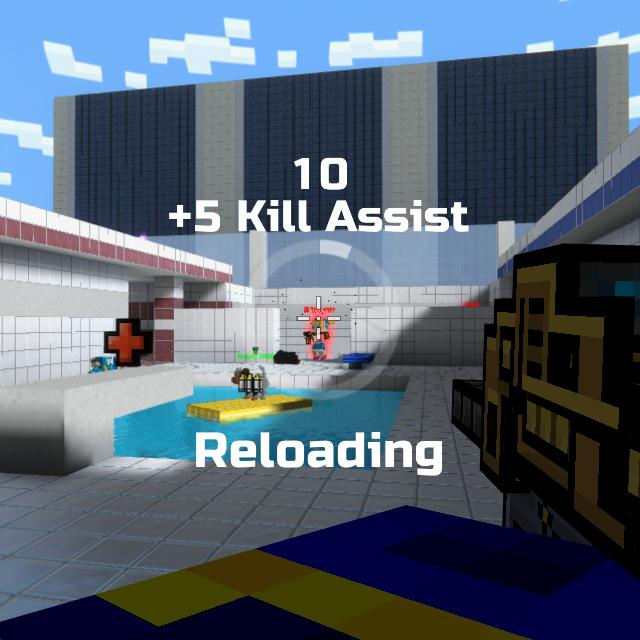Enemy: (304, 321, 330, 360)
